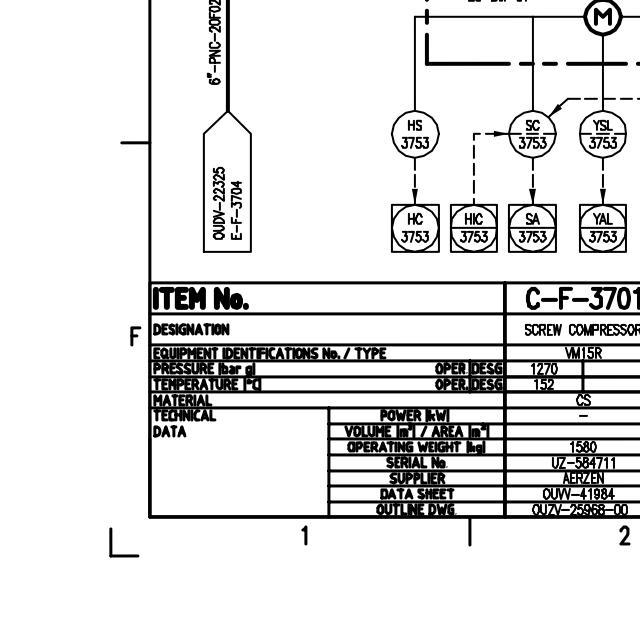M: (582, 0, 623, 37)
